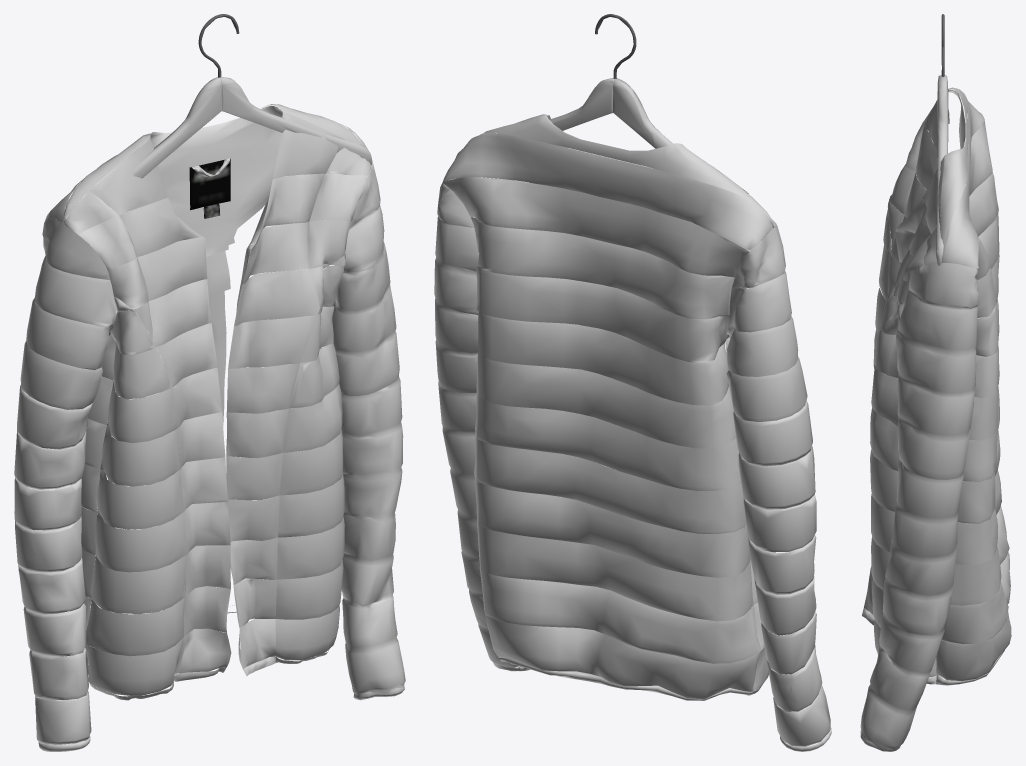
File: clothes06_jacket.glb
3 renders of one model, left to right at view 1: azimuth 30°, elevation 25°; view 2: azimuth 150°, elevation 25°; view 3: azimuth 270°, elevation 25°, orthographic. The views are drawn at different scales.
Visible parts, largest first — view 1: clothes06_jacket_StaticMeshComponent0, clothes06_hanger_StaticMeshComponent0; view 2: clothes06_jacket_StaticMeshComponent0, clothes06_hanger_StaticMeshComponent0; view 3: clothes06_jacket_StaticMeshComponent0, clothes06_hanger_StaticMeshComponent0.
Boxes of the visible parts, x1,y1,x2,y2 form: clothes06_jacket_StaticMeshComponent0: [14, 104, 405, 751]; clothes06_hanger_StaticMeshComponent0: [107, 14, 371, 205]; clothes06_jacket_StaticMeshComponent0: [434, 114, 831, 751]; clothes06_hanger_StaticMeshComponent0: [550, 14, 765, 240]; clothes06_jacket_StaticMeshComponent0: [860, 87, 1011, 751]; clothes06_hanger_StaticMeshComponent0: [936, 14, 949, 265].
Size of the model in its own units: 0.4331 by 0.7744 by 0.1584.
6 materials, 4 textured.
